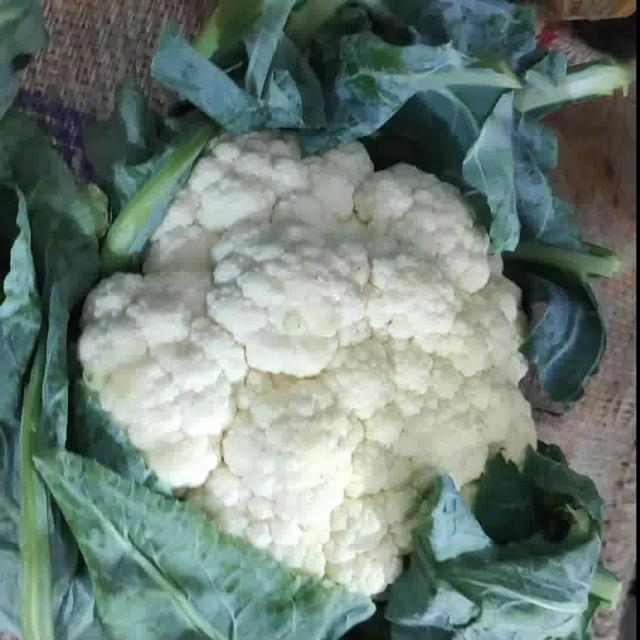Cauliflower: (77, 132, 536, 596)
